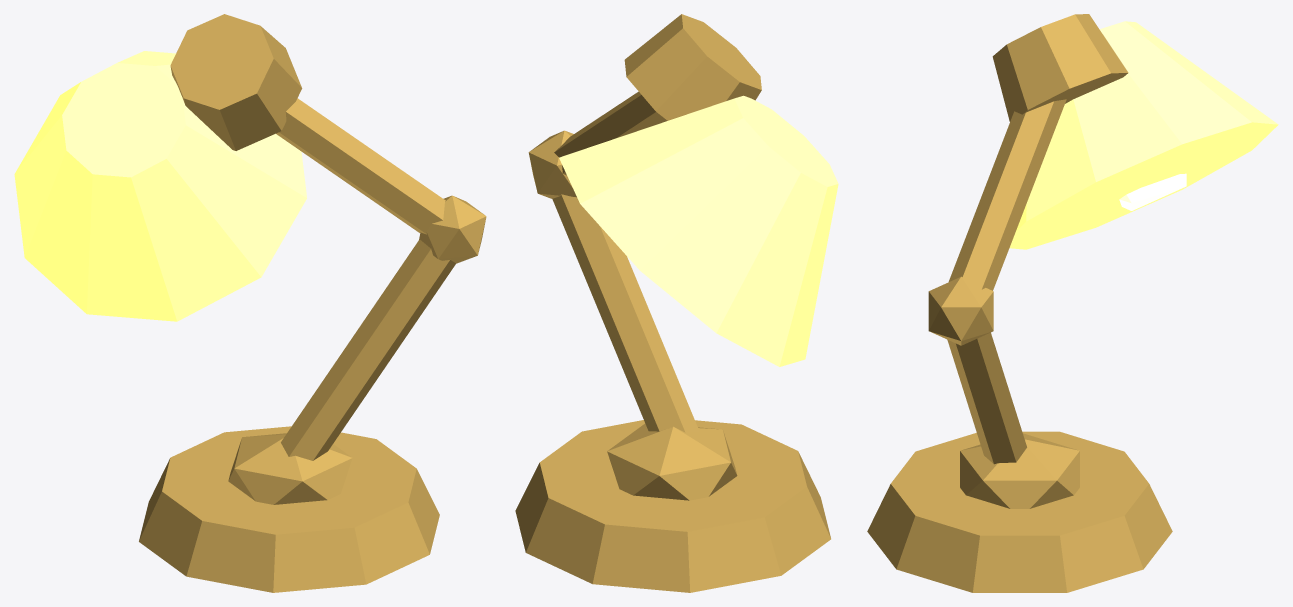
File: BUILD0032_DeskLamp.fbx
3 renders of one model, left to right at view 1: azimuth 30°, elevation 25°; view 2: azimuth 150°, elevation 25°; view 3: azimuth 270°, elevation 25°, orthographic. The views are drawn at different scales.
Visible parts, largest first — view 1: BUILD0032_DeskLamp; view 2: BUILD0032_DeskLamp; view 3: BUILD0032_DeskLamp.
Part boxes in pixels (x1,y1,x2,y2): BUILD0032_DeskLamp: (14, 14, 486, 592); BUILD0032_DeskLamp: (515, 14, 838, 592); BUILD0032_DeskLamp: (867, 14, 1278, 592).
Size of the model in its own units: 0.679 by 0.9375 by 0.7004.
